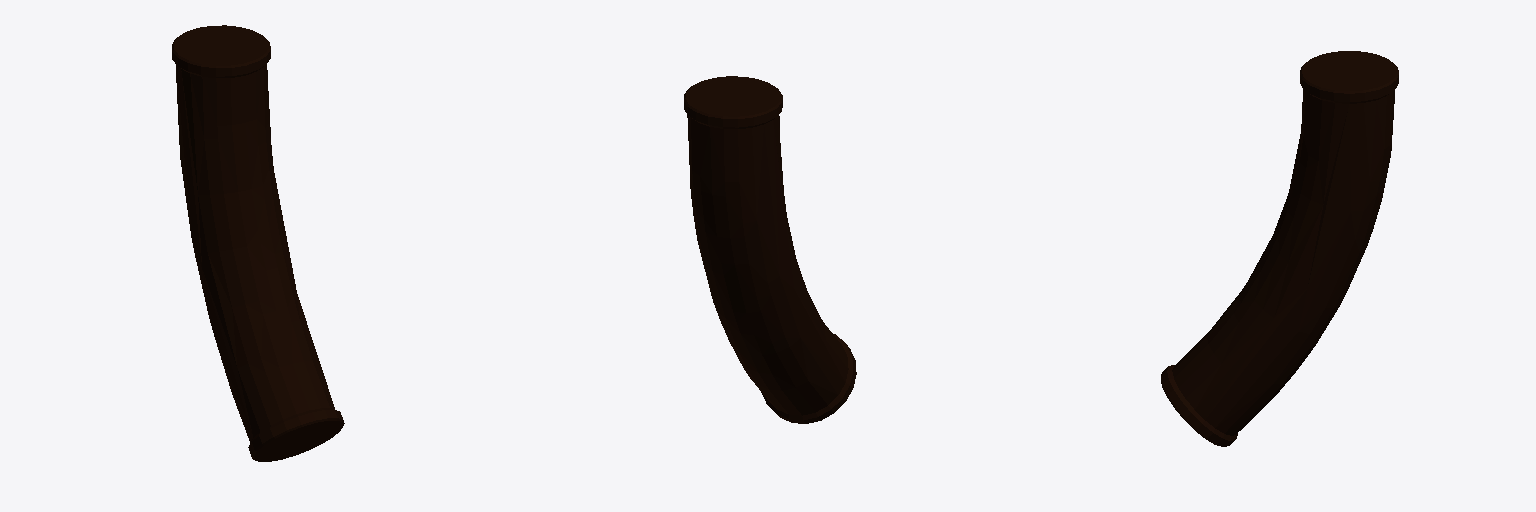
The model's file is Pipe20c.002.obj.
The picture shows the model from 3 angles: view 1: azimuth 30°, elevation 25°; view 2: azimuth 150°, elevation 25°; view 3: azimuth 270°, elevation 25°; orthographic projection.
Parts seen in each view (by area): view 1: Pipe20c.002_Pipe20c.003; view 2: Pipe20c.002_Pipe20c.003; view 3: Pipe20c.002_Pipe20c.003.
Part boxes in pixels (bbox=[...]): Pipe20c.002_Pipe20c.003: bbox=[172, 25, 344, 461]; Pipe20c.002_Pipe20c.003: bbox=[684, 76, 856, 423]; Pipe20c.002_Pipe20c.003: bbox=[1161, 51, 1398, 446].
Size of the model in its own units: 0.054 by 0.2207 by 0.1292.